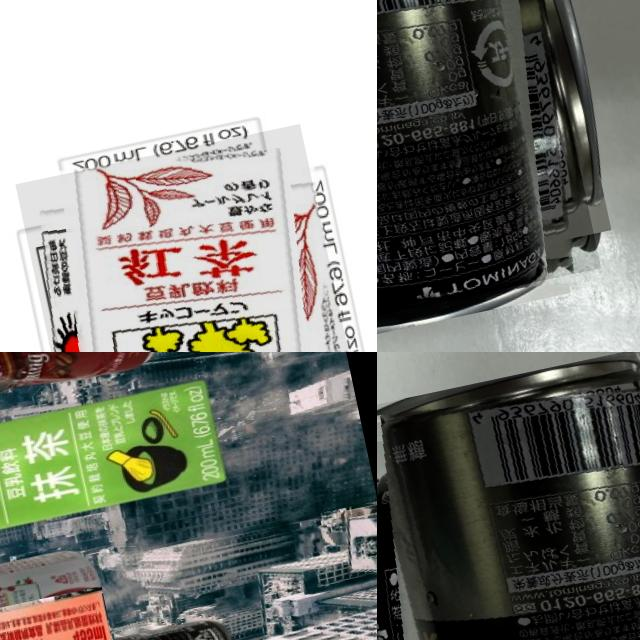Aluminium Foil: (15, 122, 360, 352), (0, 370, 235, 576)
Can: (377, 0, 600, 346), (377, 352, 640, 640), (0, 352, 164, 430), (0, 538, 111, 640), (26, 609, 231, 640)
